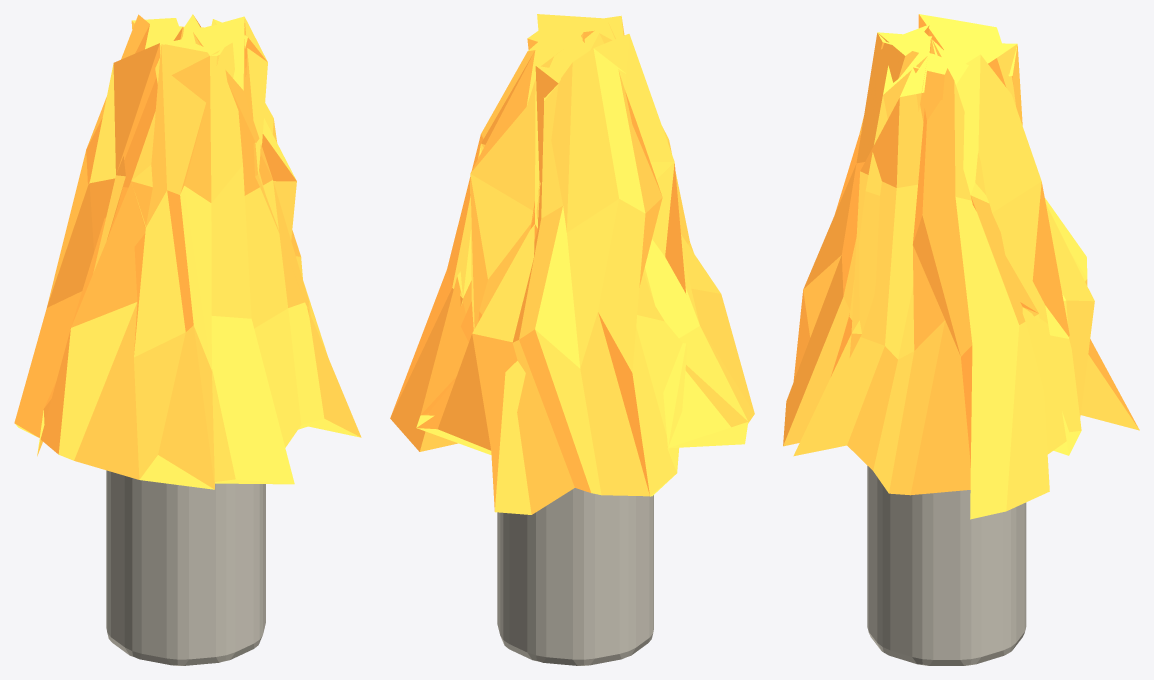
File: ember_morel.glb
3 views of the same model, side by side, from view 1: azimuth 30°, elevation 25°; view 2: azimuth 150°, elevation 25°; view 3: azimuth 270°, elevation 25° (orthographic).
Parts seen in each view (by area): view 1: model; view 2: model; view 3: model.
Part boxes in pixels (x1,y1,x2,y2): model: [14, 14, 361, 665]; model: [390, 14, 754, 665]; model: [783, 14, 1139, 665].
Bounding box in the file's own units: 0.1585 × 0.2888 × 0.1533.
